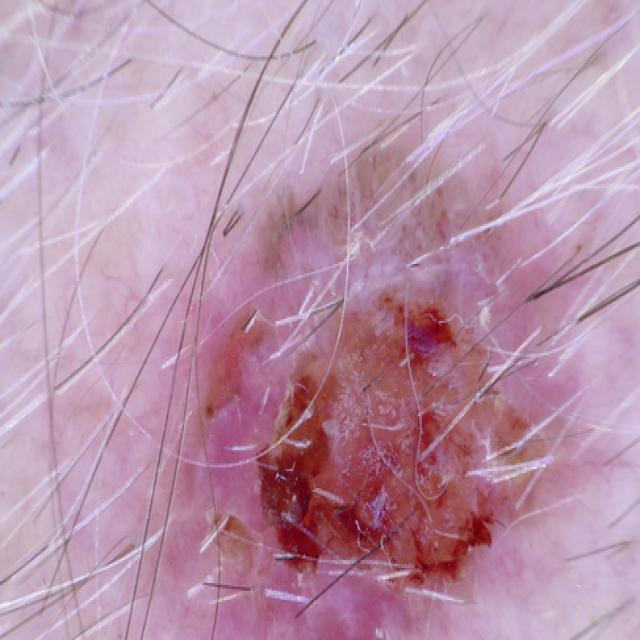Carcinoma: (165, 180, 617, 640)
